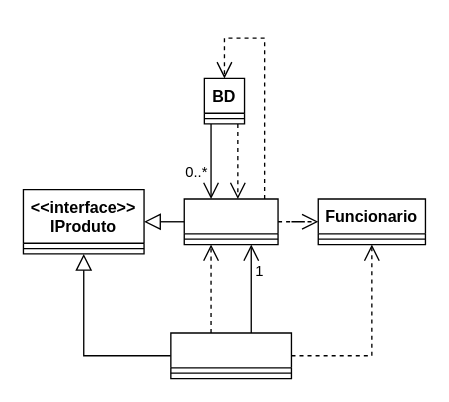
Image size: 449x402. Some labels were removed from this diagram. The shapes that lost their labels are listed below. From the top down, each one's centre as x and y in pixels, then its label:
At [230,221]: "Produto".
At [230,355]: "ProdutoProxy".
